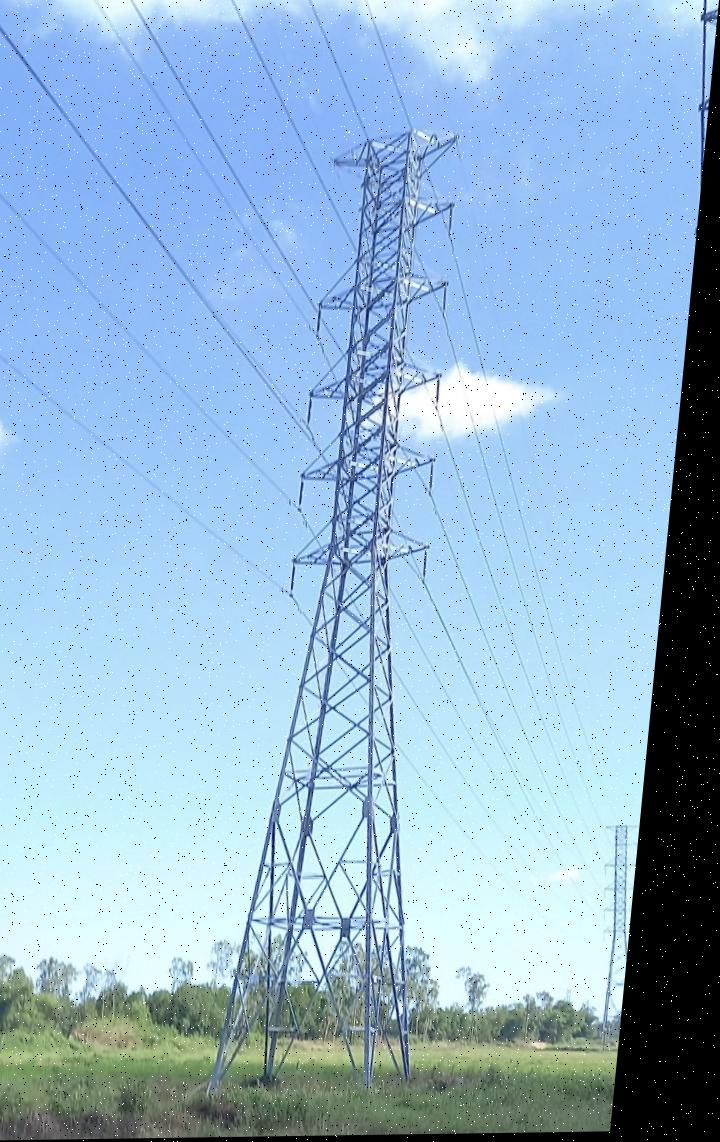tower: (209, 122, 515, 1119)
